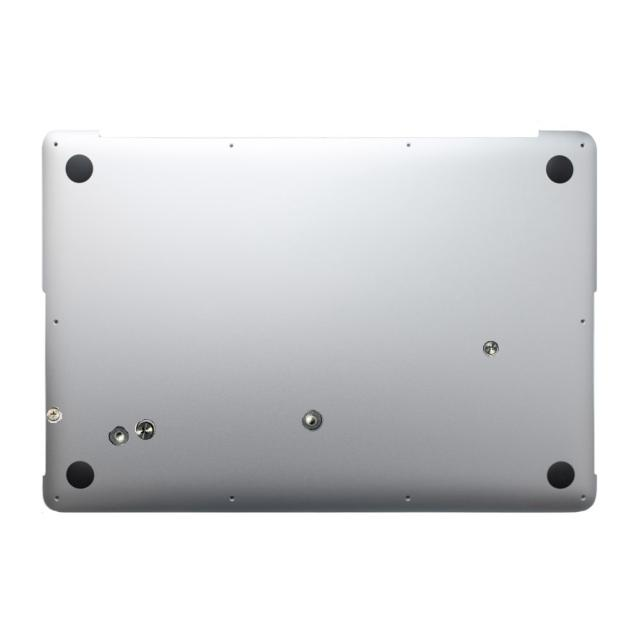lock: (134, 418, 156, 440), (45, 406, 62, 423), (483, 340, 499, 357)
missing_screw: (301, 409, 323, 431), (108, 426, 129, 446)
